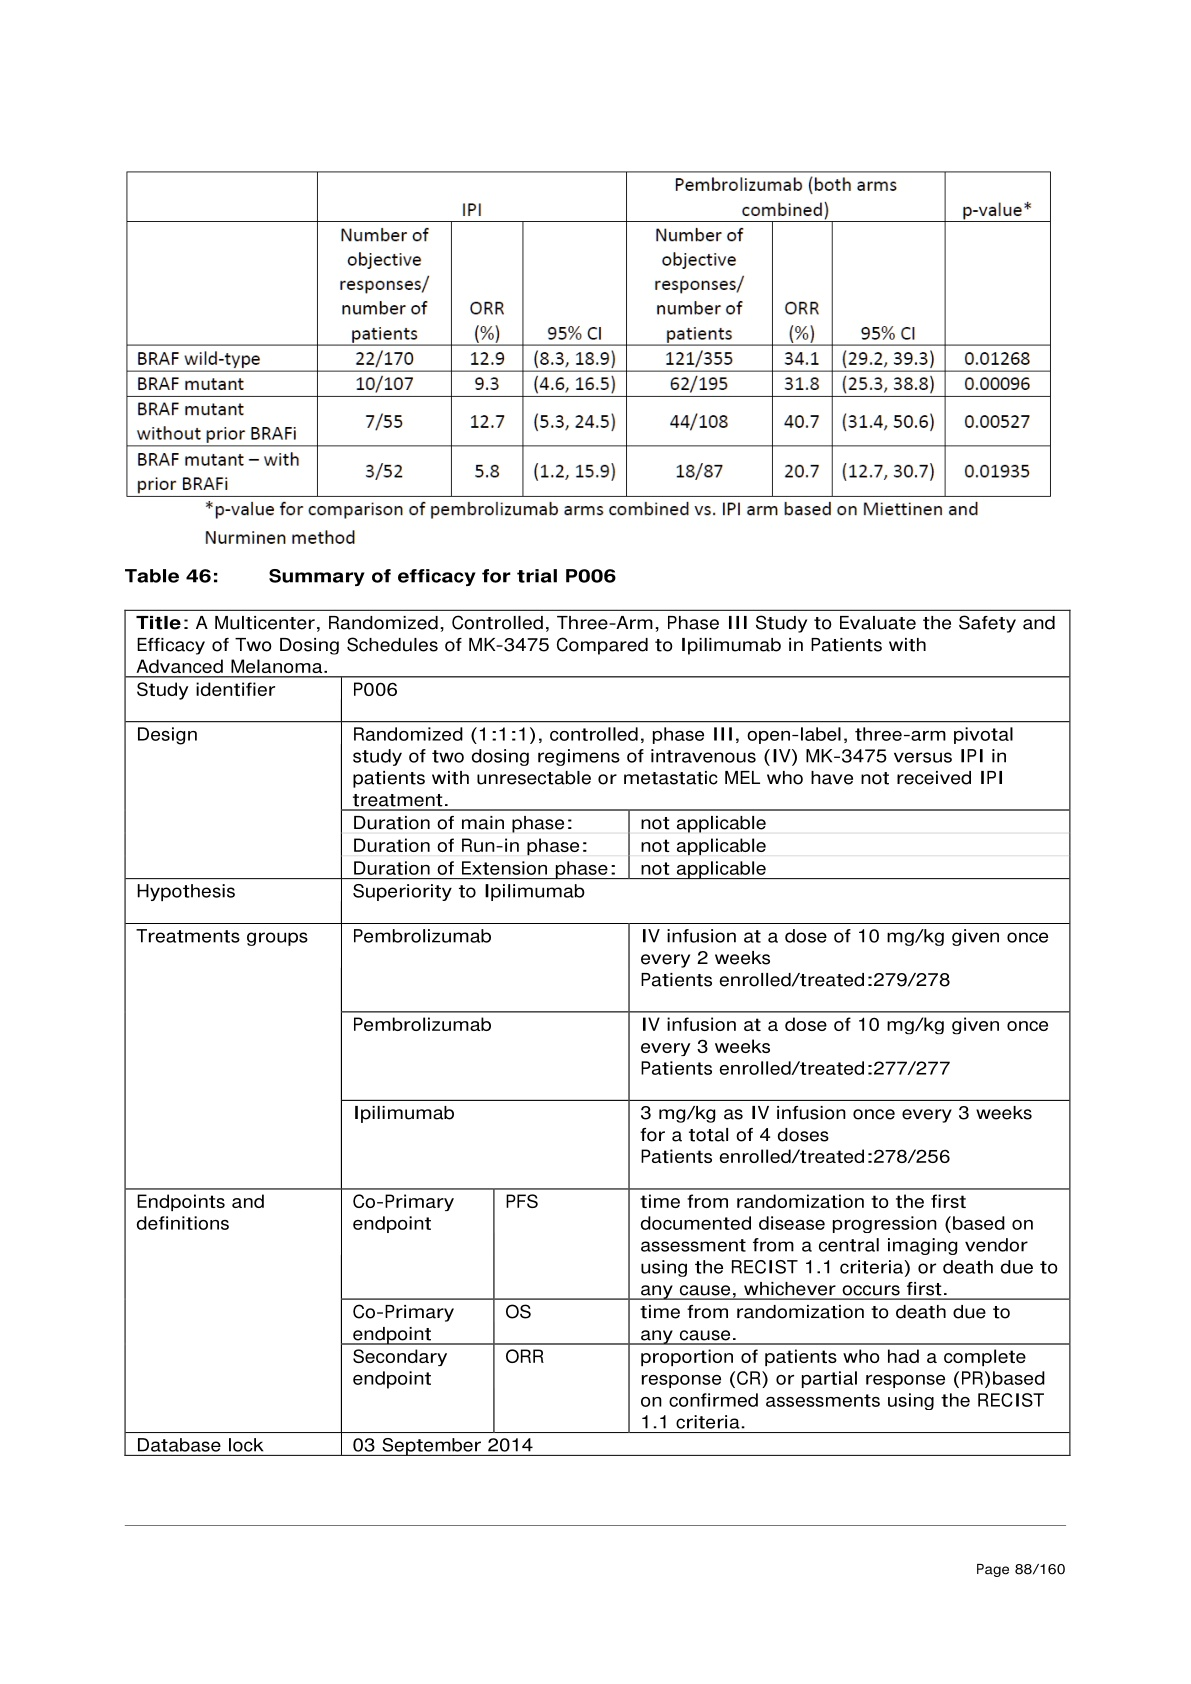merged_cells: (122, 607, 1072, 1457), (124, 169, 1053, 499)
